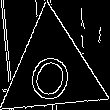O_NE: (24, 37, 80, 102)
